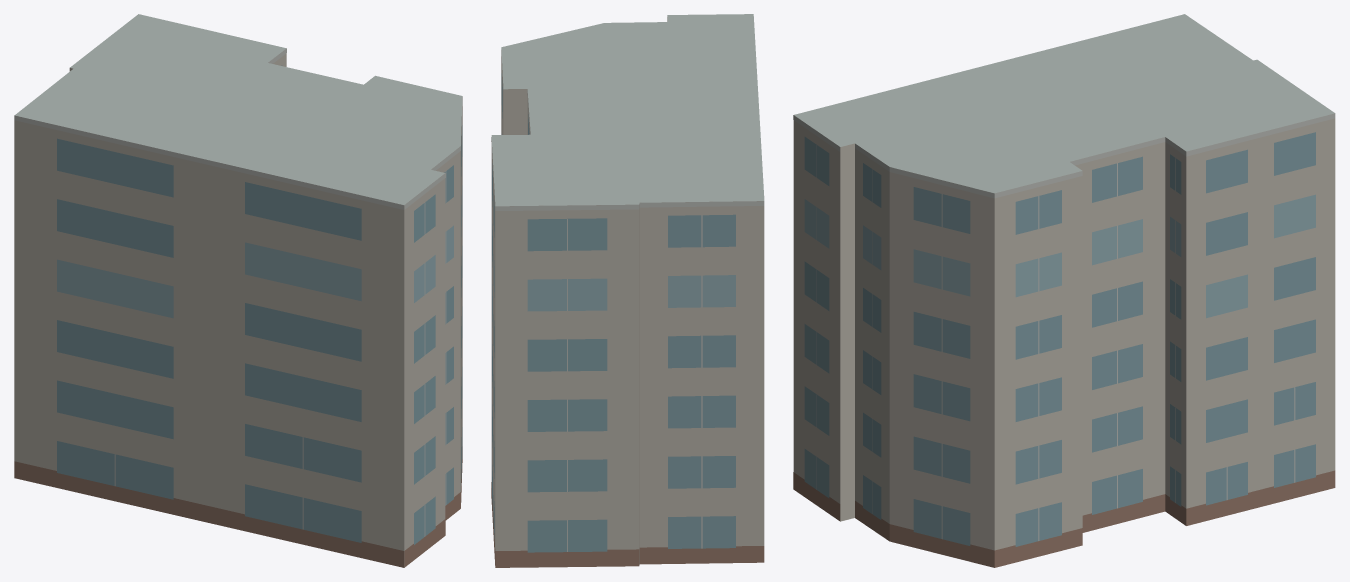
Rendered from survey-upis-32739069.glb.
3 views of the same model, side by side, from view 1: azimuth 30°, elevation 25°; view 2: azimuth 150°, elevation 25°; view 3: azimuth 270°, elevation 25° (orthographic). The views are drawn at different scales.
Visible parts, largest first — view 1: survey-upis-32739069.tmp; view 2: survey-upis-32739069.tmp; view 3: survey-upis-32739069.tmp.
Boxes of the visible parts, left/top/right/bottom form: survey-upis-32739069.tmp: left=14, top=14, right=462, bottom=567; survey-upis-32739069.tmp: left=491, top=14, right=764, bottom=567; survey-upis-32739069.tmp: left=793, top=14, right=1335, bottom=567.
Bounding box in the file's own units: 18.7 × 18.2 × 23.87.
